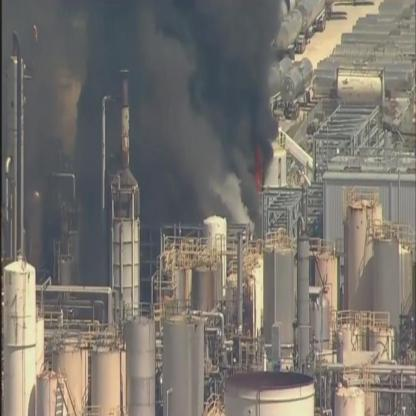fire: (253, 143, 264, 191)
